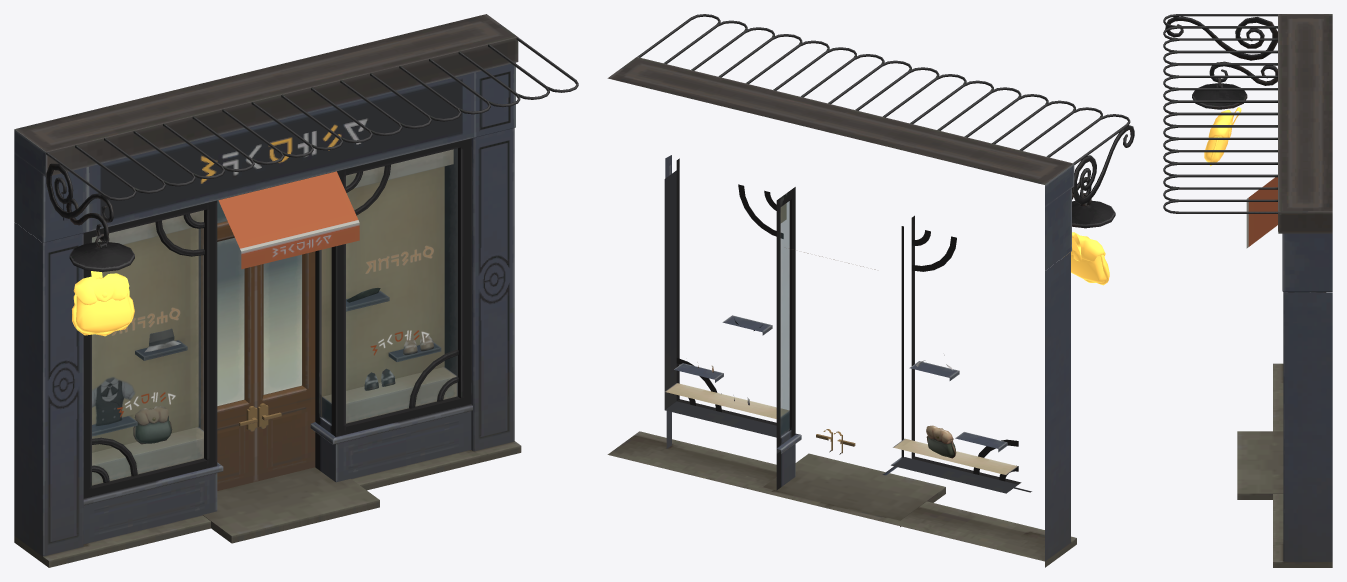
File: t1_b_boutique4.glb
3 renders of one model, left to right at view 1: azimuth 30°, elevation 25°; view 2: azimuth 150°, elevation 25°; view 3: azimuth 270°, elevation 25°, orthographic. The views are drawn at different scales.
Visible parts, largest first — view 1: nomerge_t1_b_boutique4_mesh1; view 2: nomerge_t1_b_boutique4_mesh1; view 3: nomerge_t1_b_boutique4_mesh1.
Boxes of the visible parts, x1=… form: nomerge_t1_b_boutique4_mesh1: x1=14, y1=14, x2=578, y2=567; nomerge_t1_b_boutique4_mesh1: x1=607, y1=14, x2=1134, y2=567; nomerge_t1_b_boutique4_mesh1: x1=1163, y1=14, x2=1332, y2=567.
Size of the model in its own units: 5.57 by 4.6 by 1.99.
5 materials, 4 textured.
